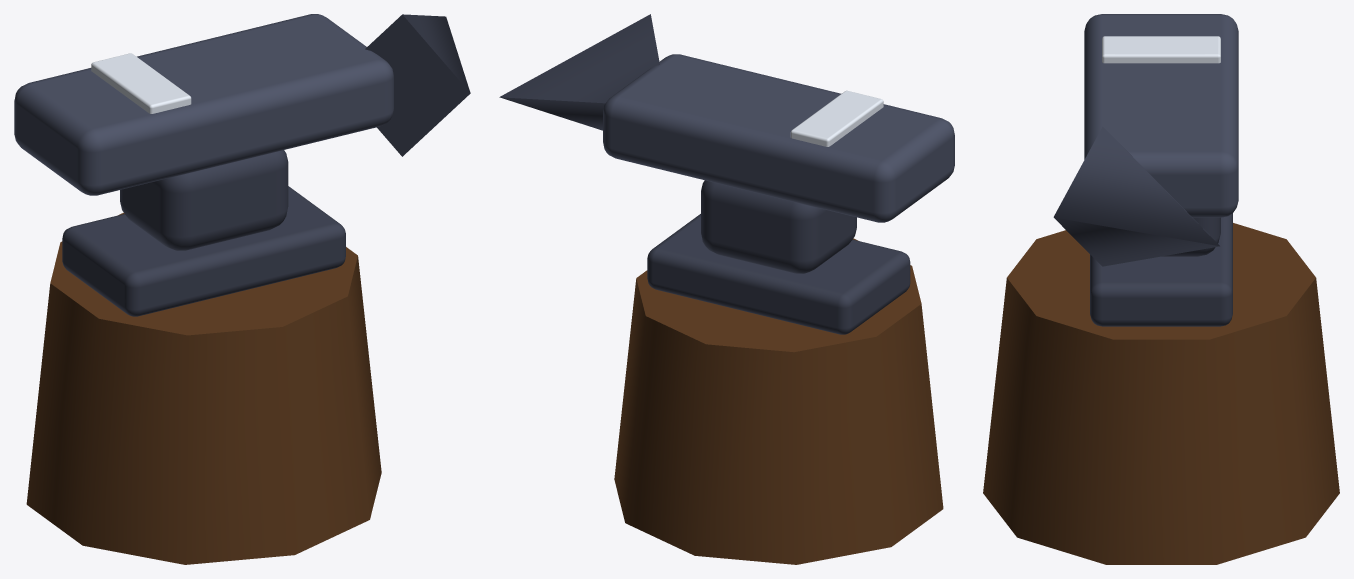
The model's file is prop_anvil.glb.
The picture shows the model from 3 angles, left to right: view 1: azimuth 30°, elevation 25°; view 2: azimuth 150°, elevation 25°; view 3: azimuth 270°, elevation 25°; orthographic projection. The views are drawn at different scales.
Visible parts, largest first — view 1: Stump, Face, Foot, Waist, Horn, Highlight; view 2: Stump, Face, Foot, Waist, Horn, Highlight; view 3: Stump, Face, Horn, Foot, Highlight, Waist.
Part boxes in pixels (x1,y1,x2,y2): Stump: (26,212,381,564); Face: (14,14,393,195); Foot: (62,186,345,316); Waist: (120,150,288,250); Horn: (365,14,470,156); Highlight: (91,53,191,113); Stump: (614,238,943,564); Face: (603,54,954,222); Foot: (647,214,910,334); Waist: (701,180,856,273); Horn: (499,14,659,130); Highlight: (790,90,883,146); Stump: (983,223,1339,564); Face: (1084,14,1238,217); Horn: (1053,126,1219,266); Foot: (1090,213,1232,326); Highlight: (1102,36,1220,63); Waist: (1162,217,1220,256).
Bounding box in the file's own units: 0.819 × 0.83 × 0.6.
